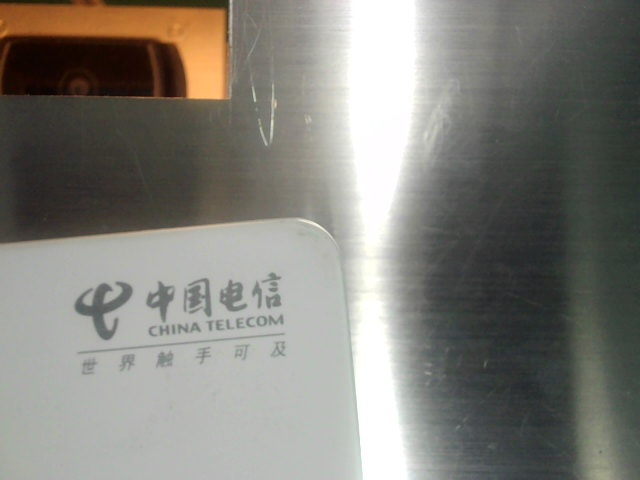AB_ChinaTelecom: (64, 263, 315, 380)
